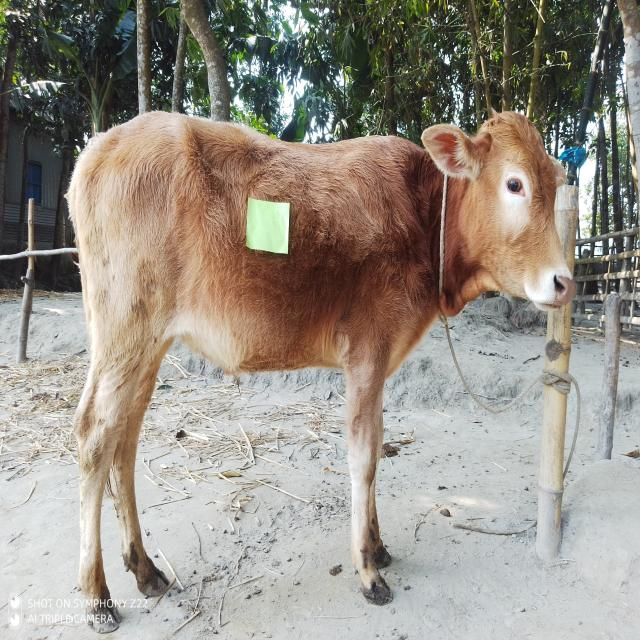badan_sapi: (72, 110, 402, 388)
sapi: (50, 104, 588, 633)
